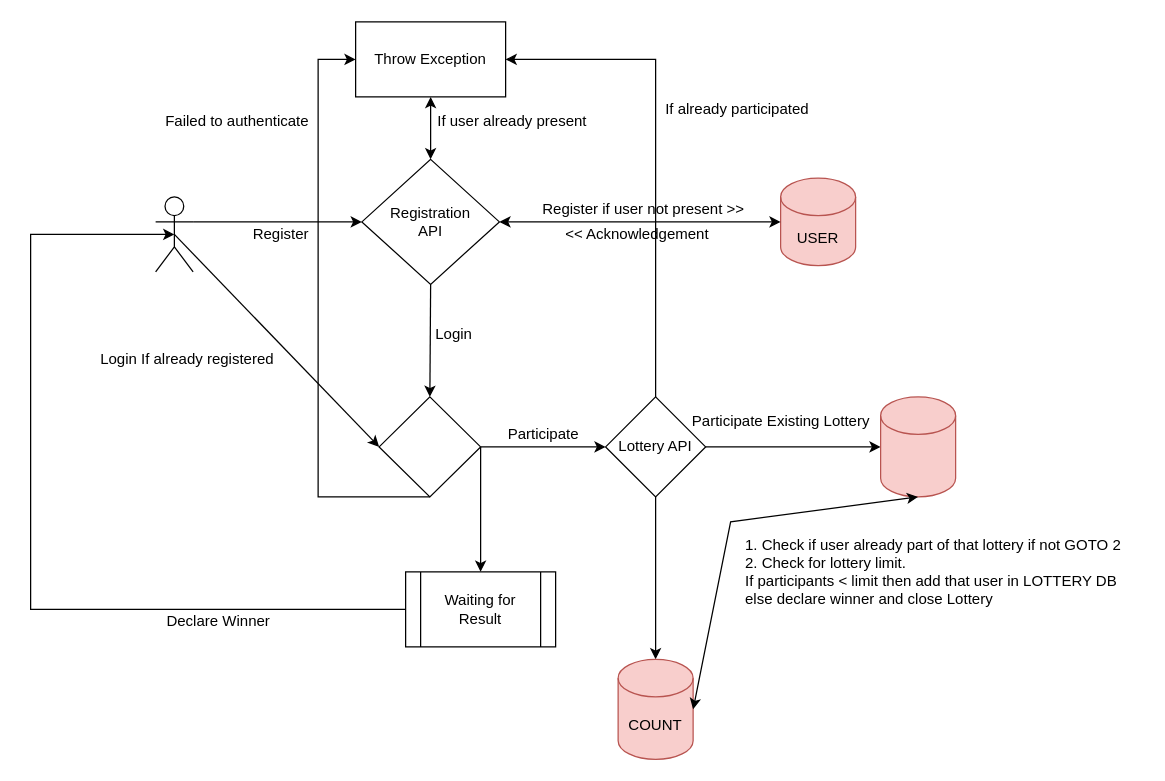
Image size: 1165x781. Some labels were removed from this diagram. Here are the shapes that lost their labels. From the top down, the centre of each, then its label:
pixel 173 234: Actor
pixel 429 446: Login API
pixel 917 446: LOTTERY
